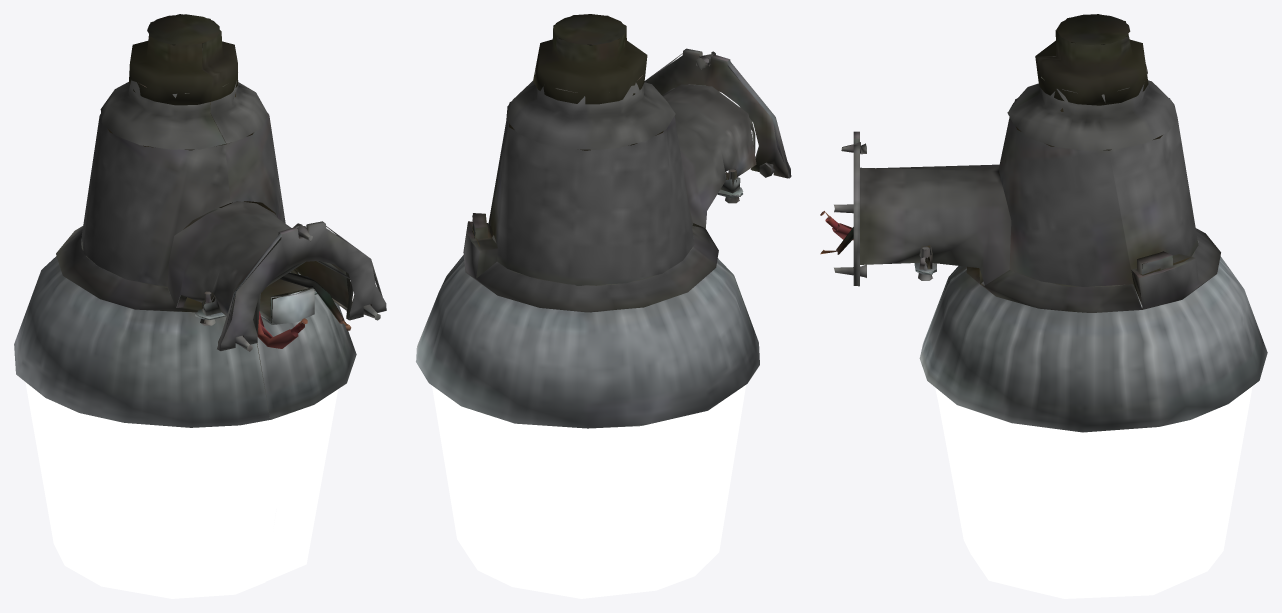
The model's file is security_light.glb.
3 views of the same model, side by side, from view 1: azimuth 30°, elevation 25°; view 2: azimuth 150°, elevation 25°; view 3: azimuth 270°, elevation 25° (orthographic).
Parts seen in each view (by area): view 1: security_light; view 2: security_light; view 3: security_light.
Part boxes in pixels (x1,y1,x2,y2): security_light: (14,14,386,598); security_light: (416,14,791,598); security_light: (820,14,1267,598).
Bounding box in the file's own units: 0.3223 × 0.5305 × 0.416.
Materials: 3 (1 with a texture image).
